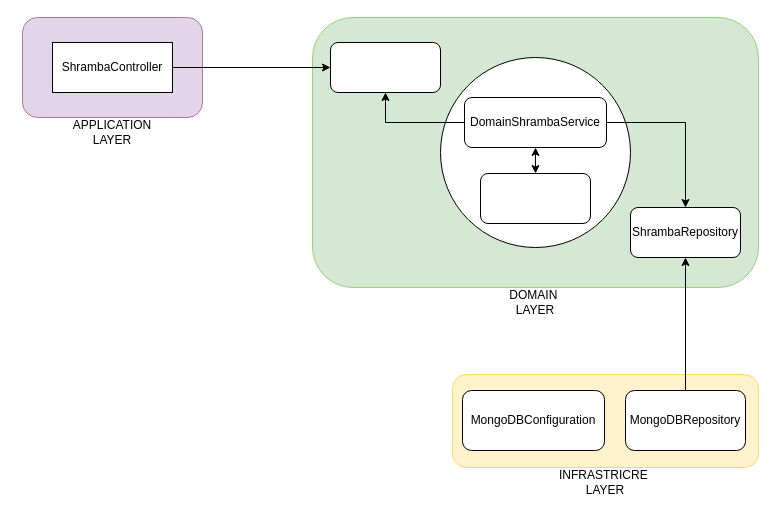
This 776x515 diagram has some shape labels left out. Here are the shapes that lost their labels. From the top down, the centre of each, then its label:
point (385, 67): ShrambaService
point (535, 198): Shramba
